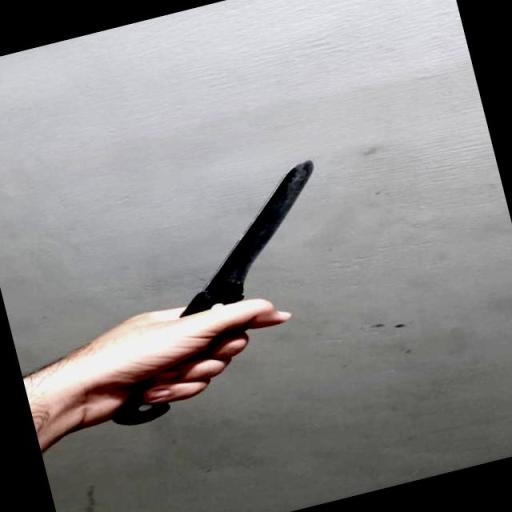knife: (66, 158, 366, 428)
